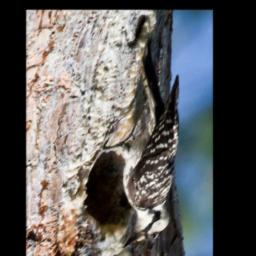Woodpecker: (101, 34, 187, 254)
